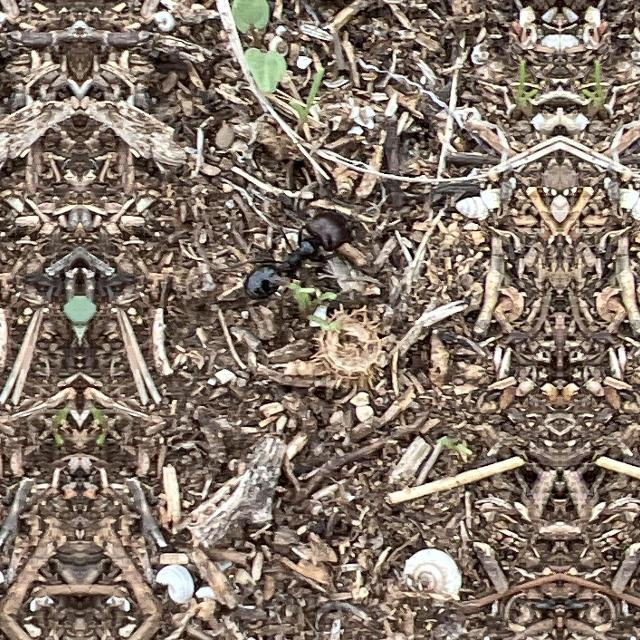Messor: (217, 180, 347, 298)
